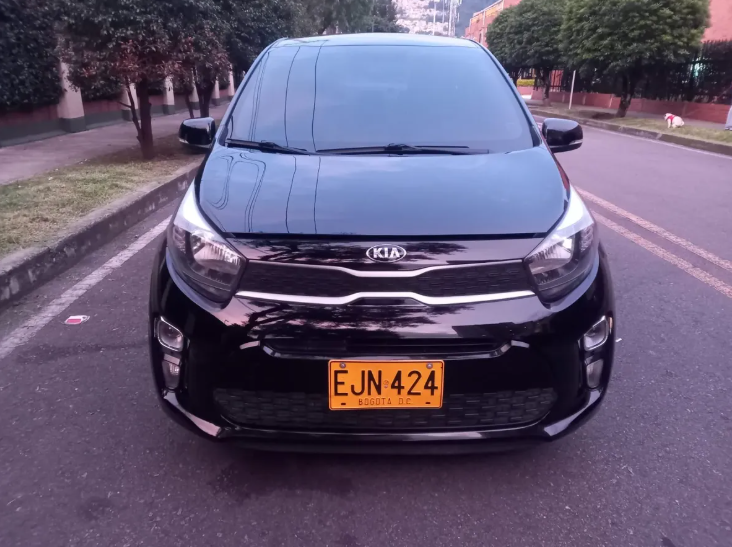placa: (329, 359, 444, 409)
